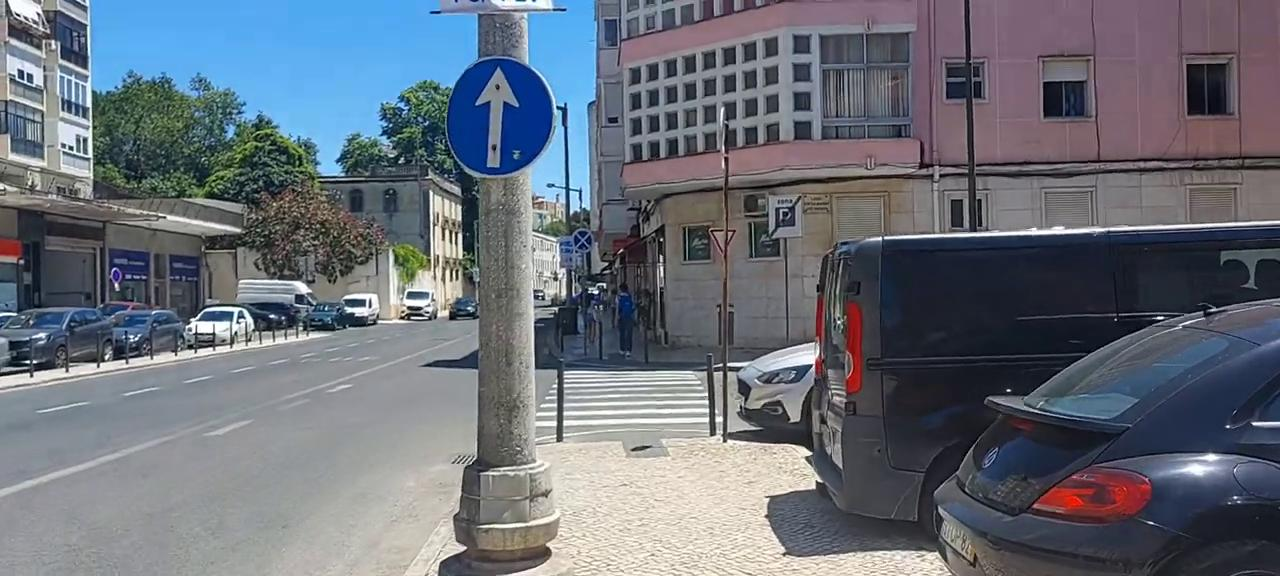sentido obrigatorio: (445, 59, 559, 179)
